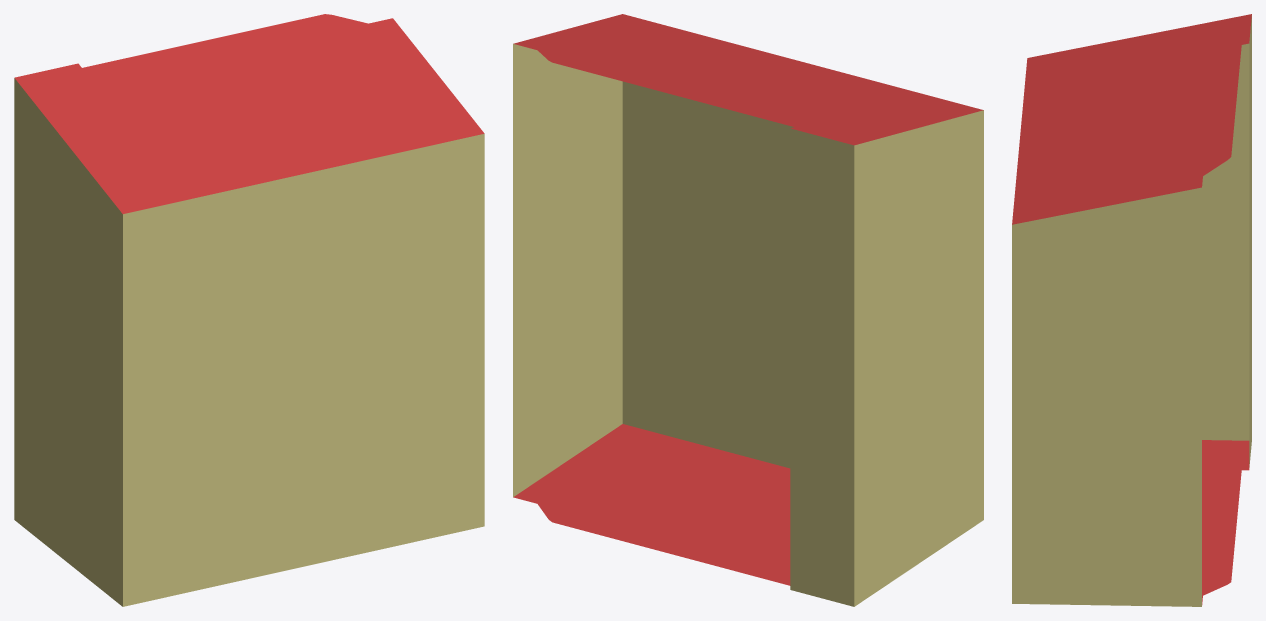
The picture shows the model from 3 angles, left to right: view 1: azimuth 30°, elevation 25°; view 2: azimuth 150°, elevation 25°; view 3: azimuth 270°, elevation 25°; orthographic projection. The views are drawn at different scales.
Parts seen in each view (by area): view 1: group_4, group_3; view 2: group_4, group_5, group_3; view 3: group_4, group_3, group_5.
Boxes of the visible parts, <box> form: group_4: <box>14,78,484,606</box>; group_3: <box>14,14,484,213</box>; group_4: <box>513,44,983,606</box>; group_5: <box>513,424,790,585</box>; group_3: <box>513,14,983,145</box>; group_4: <box>1012,15,1251,606</box>; group_3: <box>1012,14,1251,224</box>; group_5: <box>1202,440,1249,604</box>.
Bounding box in the file's own units: 6.69 × 3.99 × 7.84.
